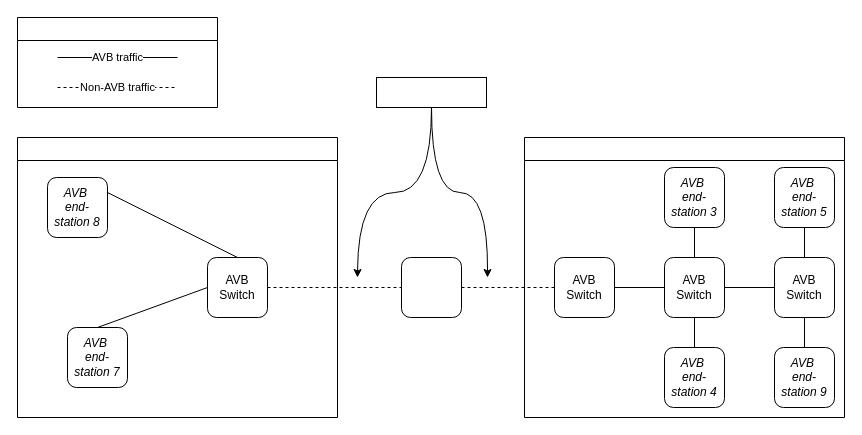
Some shapes in this 862 by 435 pixel diagram are drawn without their labels. Each missing label, with the box of its shape:
@@Legend@@: (16, 16, 218, 108)
@@No AVB connection possible@@: (376, 76, 486, 108)
AVB domain 1: (16, 136, 338, 418)
AVB domain 2: (524, 136, 844, 418)
Non-AVB switch: (400, 256, 462, 318)
